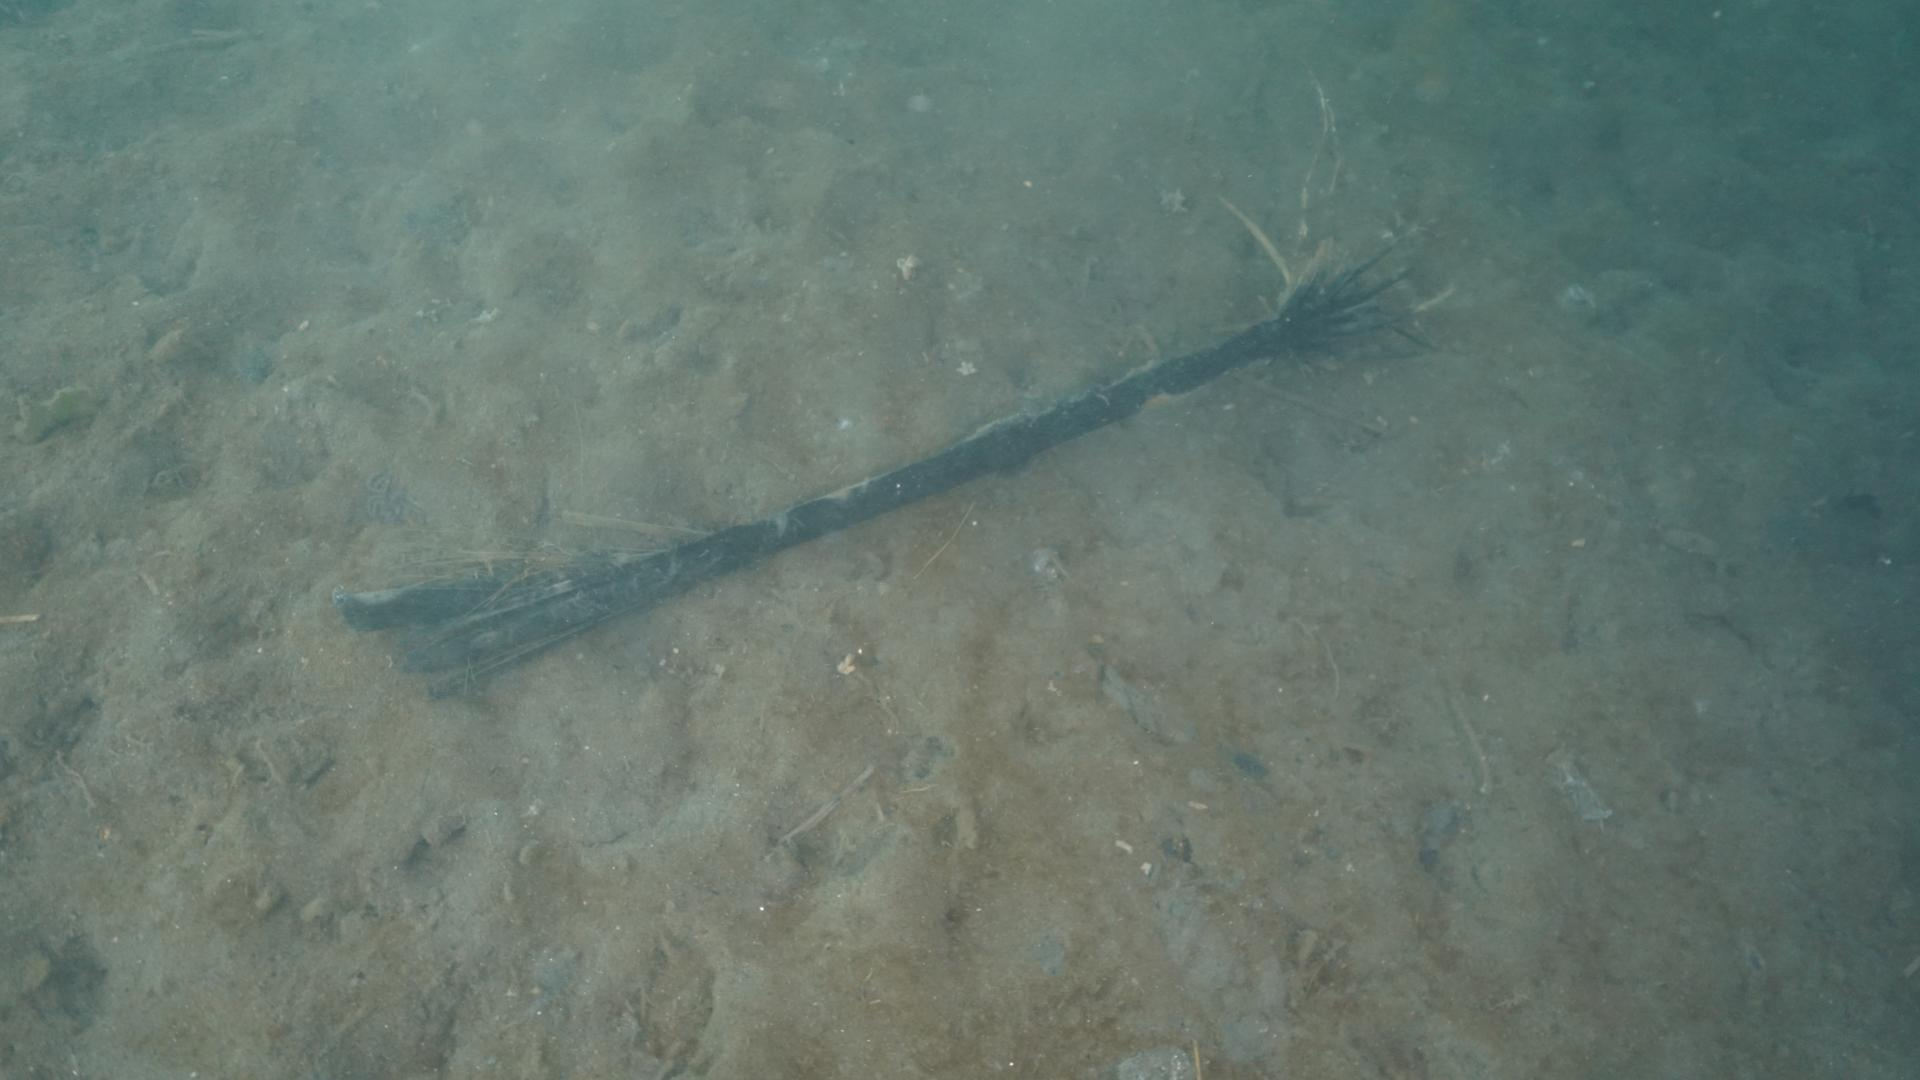wood: (334, 193, 1451, 702)
